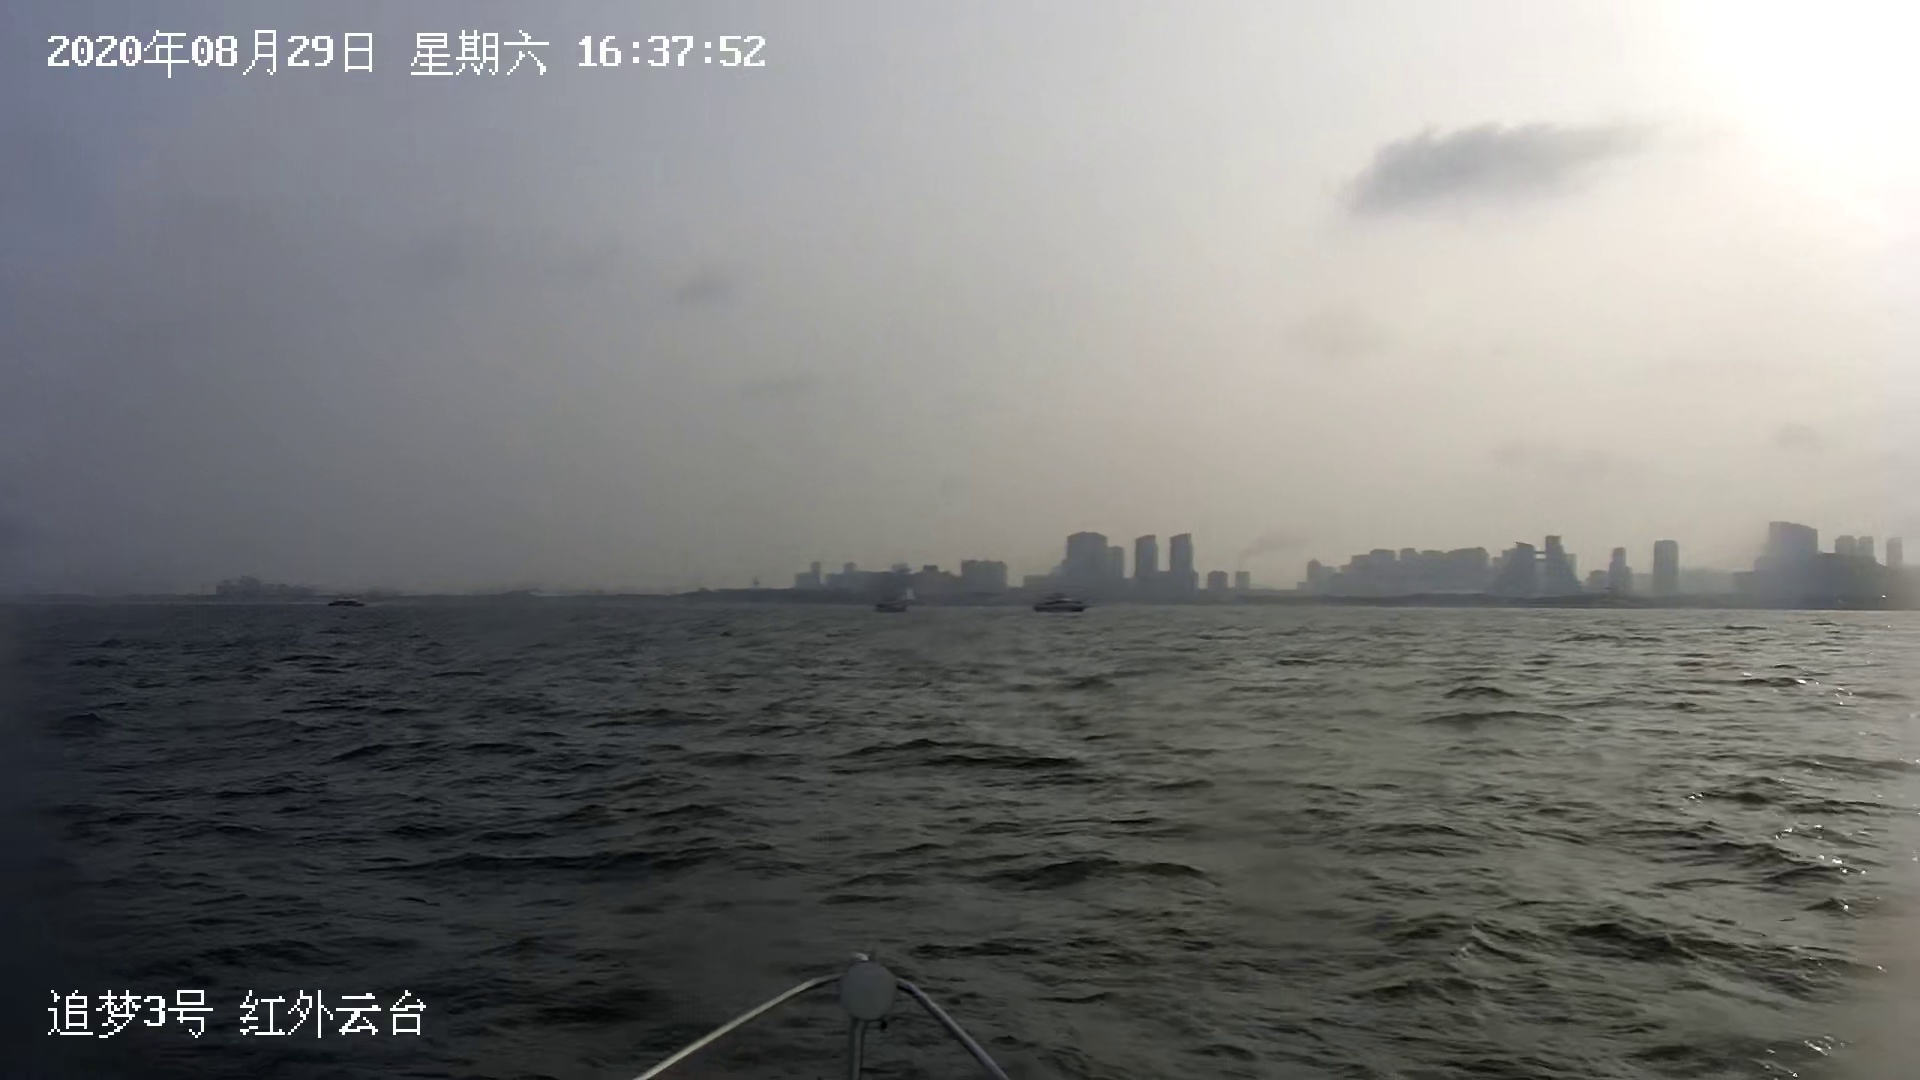barrier: (1031, 592, 1093, 618), (324, 596, 372, 611), (877, 597, 916, 613)
coast: (148, 530, 1920, 618)
